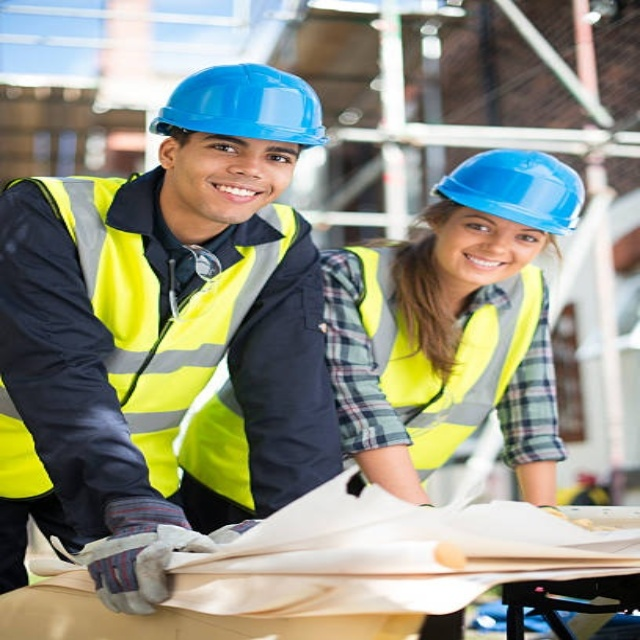Guantes: (72, 517, 223, 619)
Sin_gafas: (199, 137, 300, 167), (458, 215, 547, 248)
Sin_mascara: (209, 181, 265, 202), (462, 252, 510, 270)
